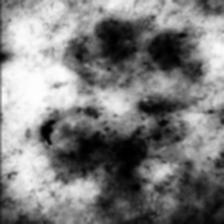Potentially Malignant Skin Tumors: (36, 20, 203, 176)
